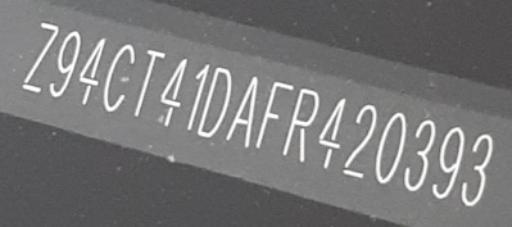letter: (20, 20, 58, 93), (282, 87, 320, 160), (196, 66, 232, 137), (255, 82, 293, 149), (100, 41, 136, 111), (403, 118, 437, 192), (342, 105, 376, 178), (430, 126, 464, 199), (154, 57, 188, 130), (226, 73, 260, 146), (374, 111, 408, 182), (315, 96, 347, 171), (132, 46, 166, 115), (460, 133, 492, 206), (47, 29, 81, 97), (75, 37, 107, 103), (183, 62, 209, 129)
